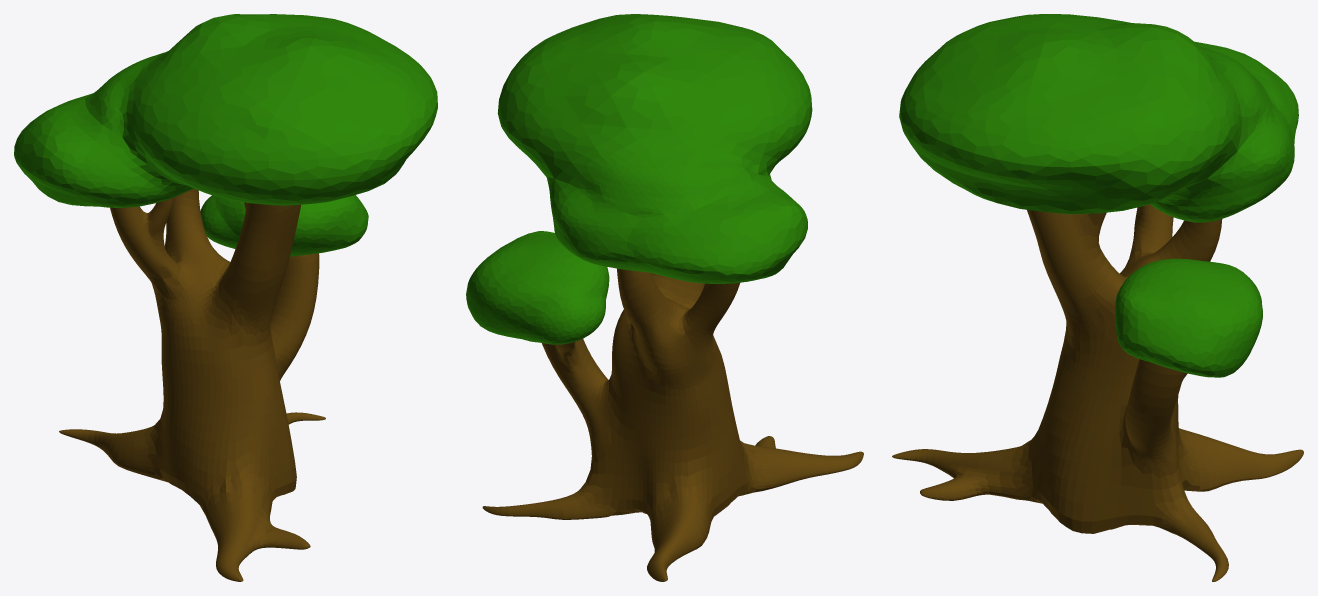
Rendered from big_tree.fbx.
3 views of the same model, side by side, from view 1: azimuth 30°, elevation 25°; view 2: azimuth 150°, elevation 25°; view 3: azimuth 270°, elevation 25° (orthographic). The views are drawn at different scales.
Visible parts, largest first — view 1: Cylinder.043; view 2: Cylinder.043; view 3: Cylinder.043.
Part boxes in pixels (x1,y1,x2,y2): Cylinder.043: (14,14,437,581); Cylinder.043: (466,14,863,581); Cylinder.043: (892,14,1303,581).
Bounding box in the file's own units: 2277 × 3033 × 2294.
